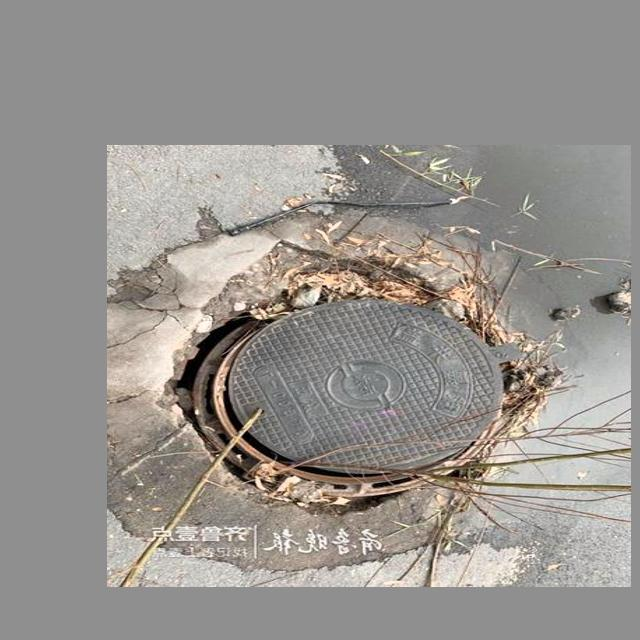circle: (114, 207, 578, 564)
